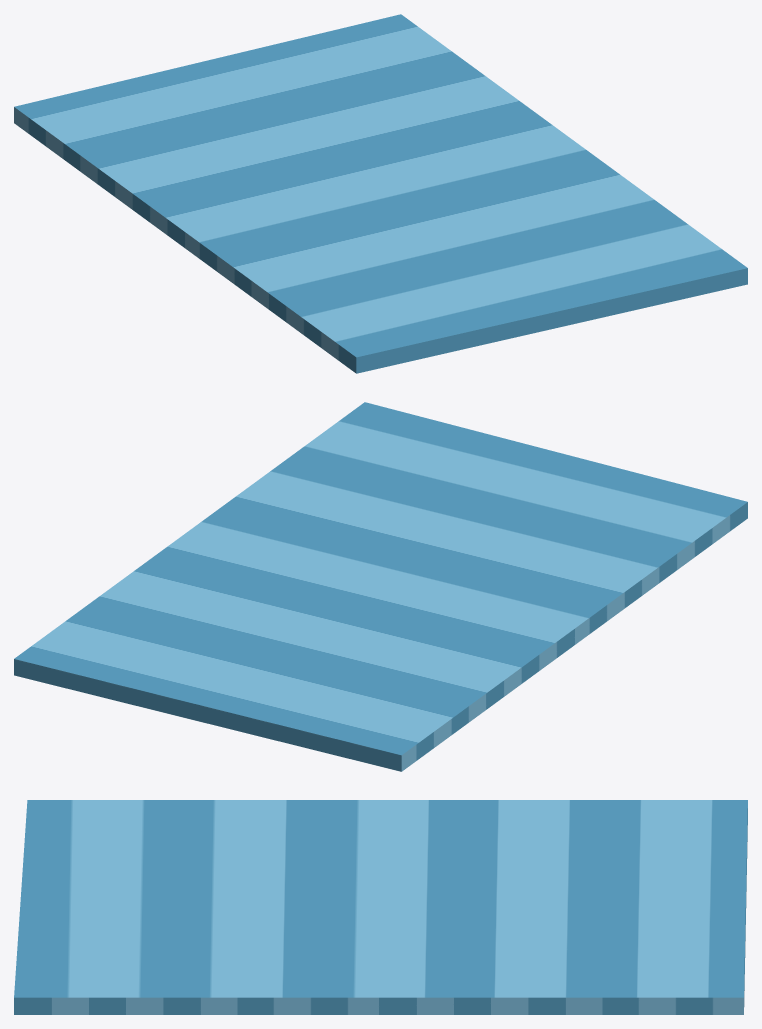
The model's file is BathMat.fbx.
3 views of the same model, one above another, from view 1: azimuth 30°, elevation 25°; view 2: azimuth 150°, elevation 25°; view 3: azimuth 270°, elevation 25° (orthographic). The views are drawn at different scales.
Parts seen in each view (by area): view 1: Bathmat; view 2: Bathmat; view 3: Bathmat.
Part boxes in pixels (x1,y1,x2,y2): Bathmat: [14, 14, 747, 373]; Bathmat: [14, 402, 747, 771]; Bathmat: [14, 800, 747, 1014].
Bounding box in the file's own units: 71.13 × 2.88 × 112.
1 material, 1 textured.
